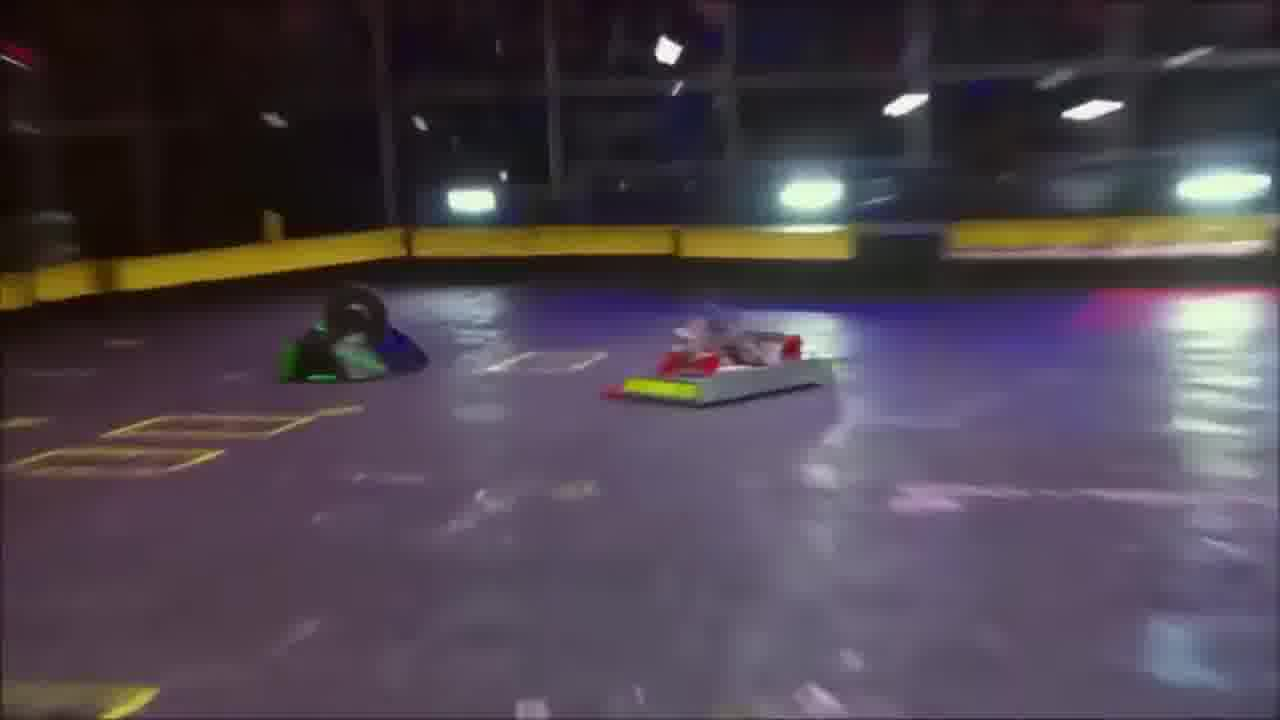combatbot: (601, 313, 805, 409), (279, 286, 426, 384)
